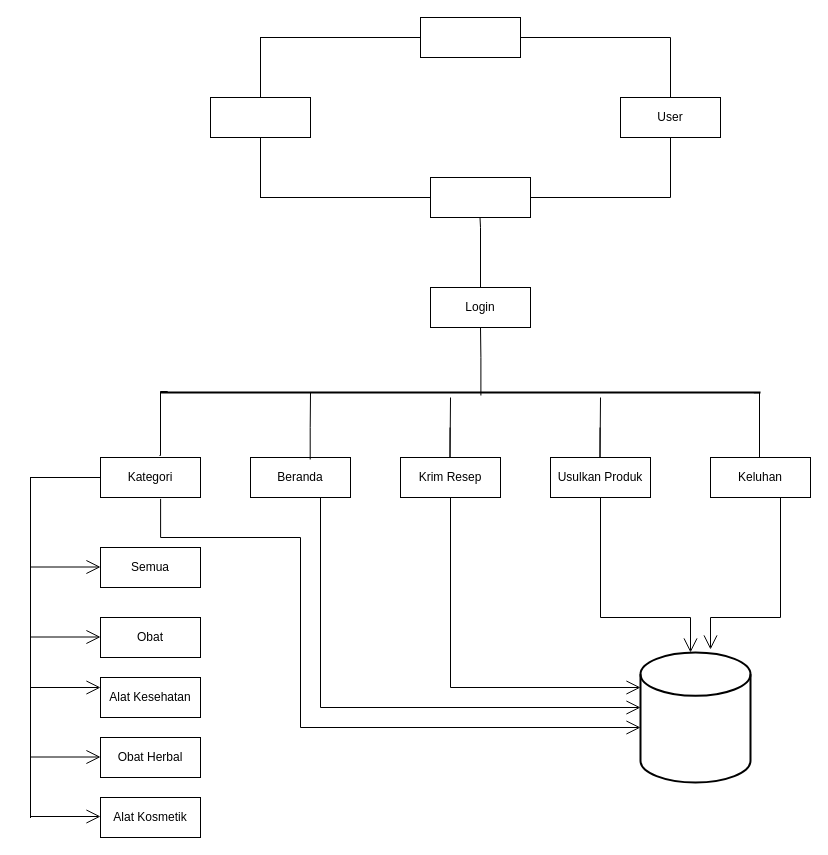
This 828x855 diagram has some shape labels left out. The shapes that lost their labels are listed below. From the top down, each one's centre as x and y in pixels, then its label:
At (x=470, y=37): "Del Apotek".
At (x=260, y=117): "Admin".
At (x=480, y=197): "Register".
At (x=695, y=717): "Database".
